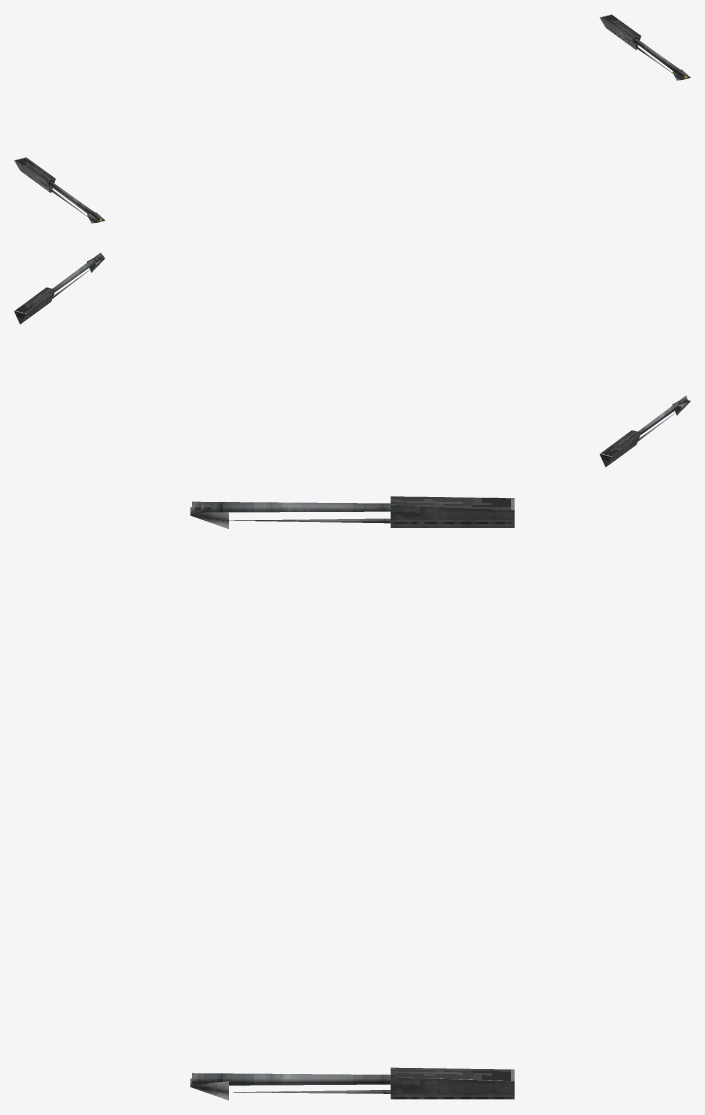
The model's file is hutt_fighter_heavy_weapon2_s06_l3.fbx.
The picture shows the model from 3 angles, top to bottom: view 1: azimuth 30°, elevation 25°; view 2: azimuth 150°, elevation 25°; view 3: azimuth 270°, elevation 25°; orthographic projection. The views are drawn at different scales.
Visible parts, largest first — view 1: mesh_node; view 2: mesh_node; view 3: mesh_node.
Boxes of the visible parts, x1,y1,x2,y2 form: mesh_node: (14,14,690,223); mesh_node: (14,252,690,467); mesh_node: (190,496,514,1100).
Size of the model in its own units: 26.54 by 0.6018 by 6.24.
